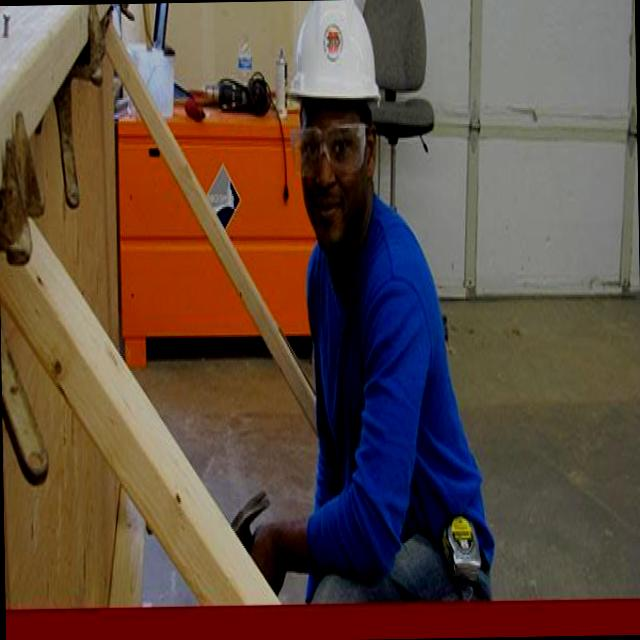goggles: (288, 116, 375, 181)
helmet: (284, 1, 384, 126)
no-vest: (276, 200, 474, 572)
